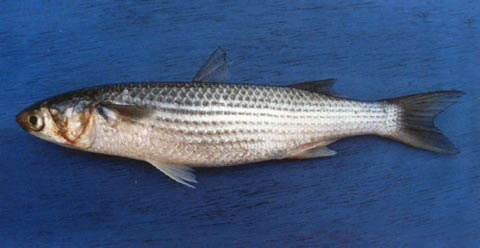fish: (16, 45, 467, 190)
